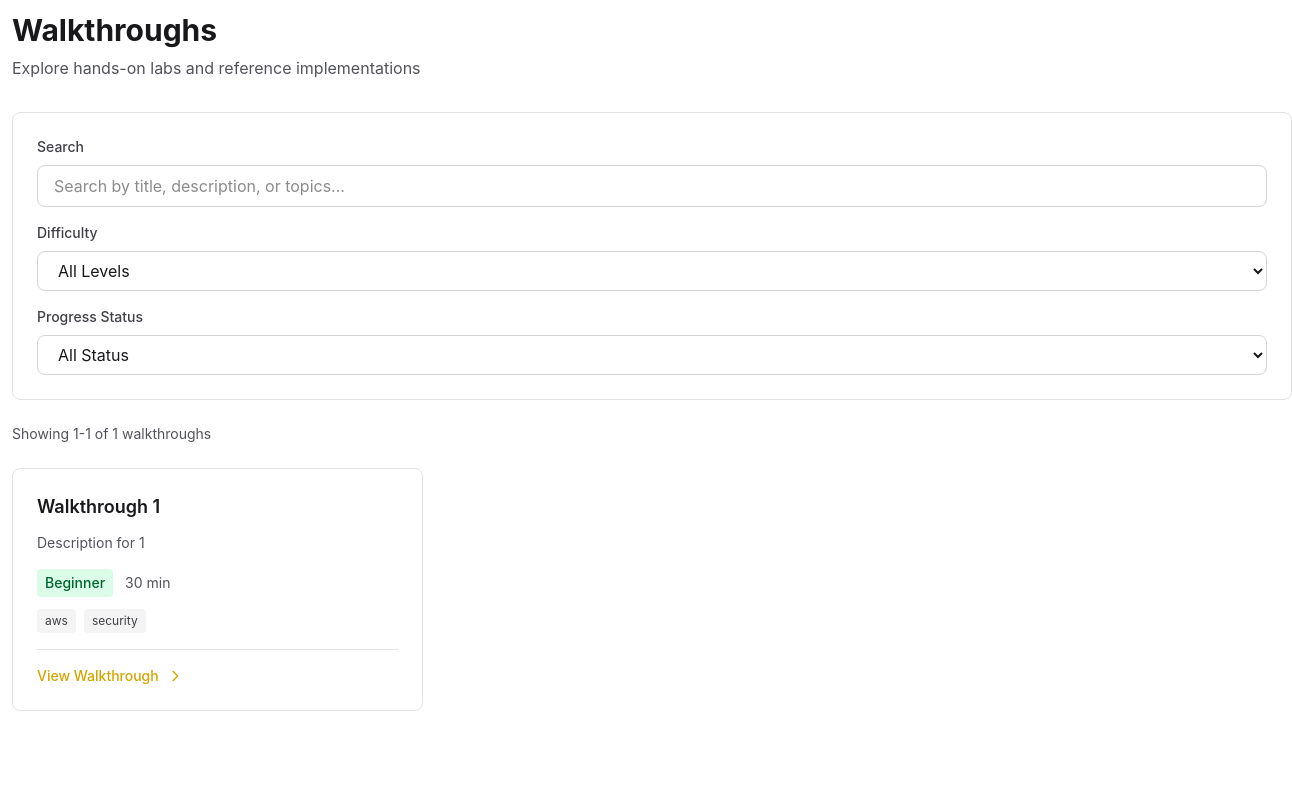
Test case: shows an empty message and a clear-filters button when nothing matches
The width and height of the screenshot is (1292, 812).
Type "zzzznomatch" into the field named "Search walkthroughs" at (652, 186), box [37,165,1267,207]
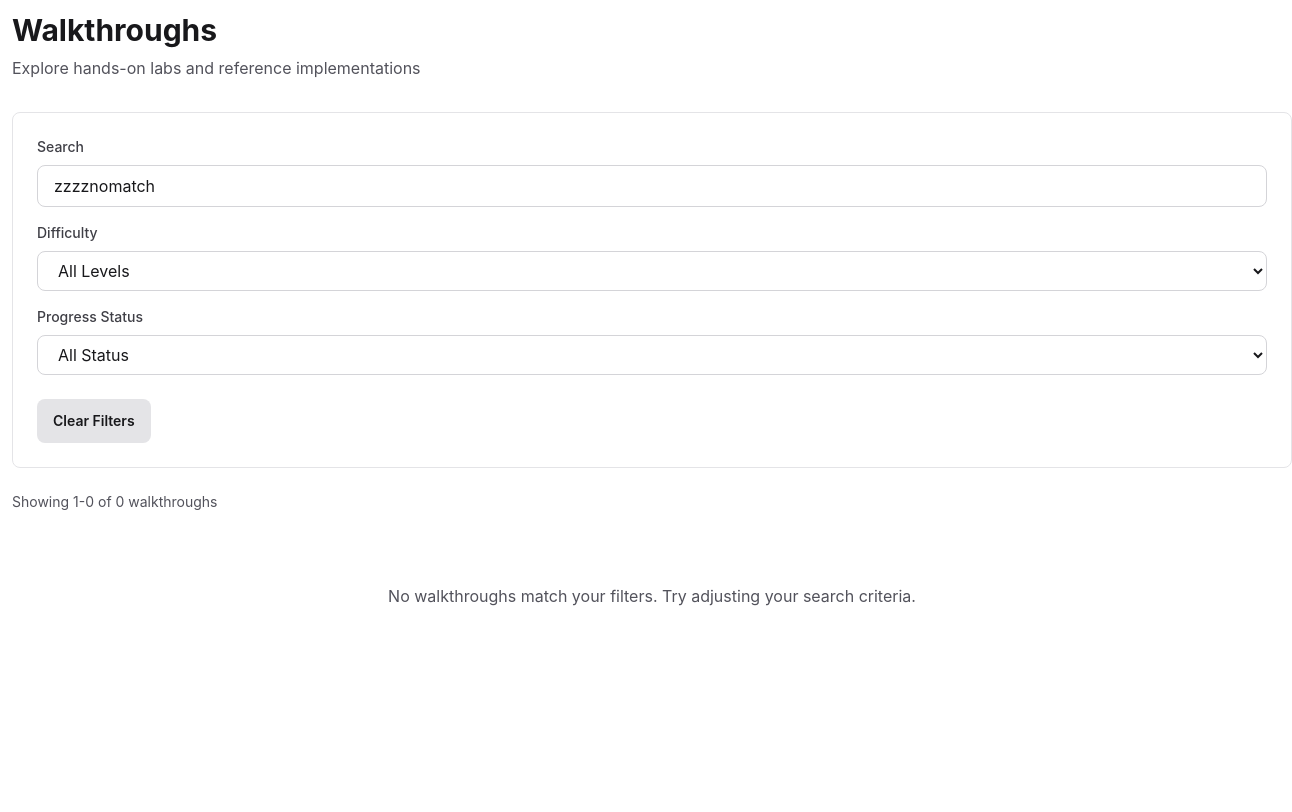
Result: the text "No walkthroughs match your filters" is shown at [388,586,916,606]
Click the button with aria-label "clear all filters" at (94, 421), box [37,399,151,443]
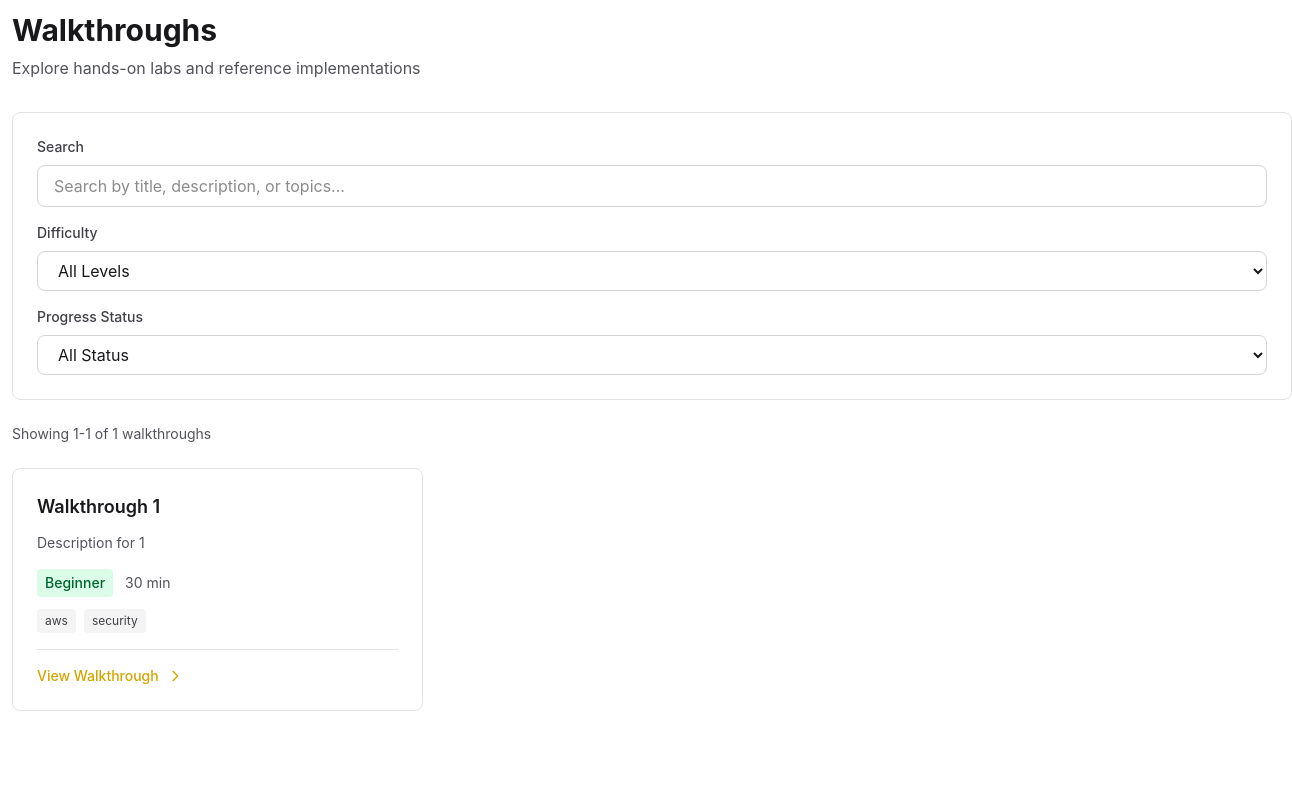
Result: the heading "Walkthrough 1" is shown at [37,496,160,517]
